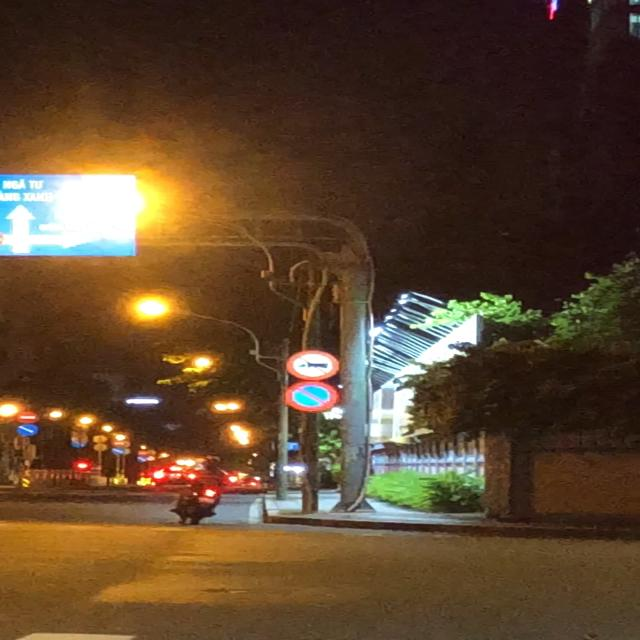Bien bao cam do xe: (279, 379, 345, 413)
Bien bao cam xe so-mi ro-mooc: (282, 348, 351, 381)
